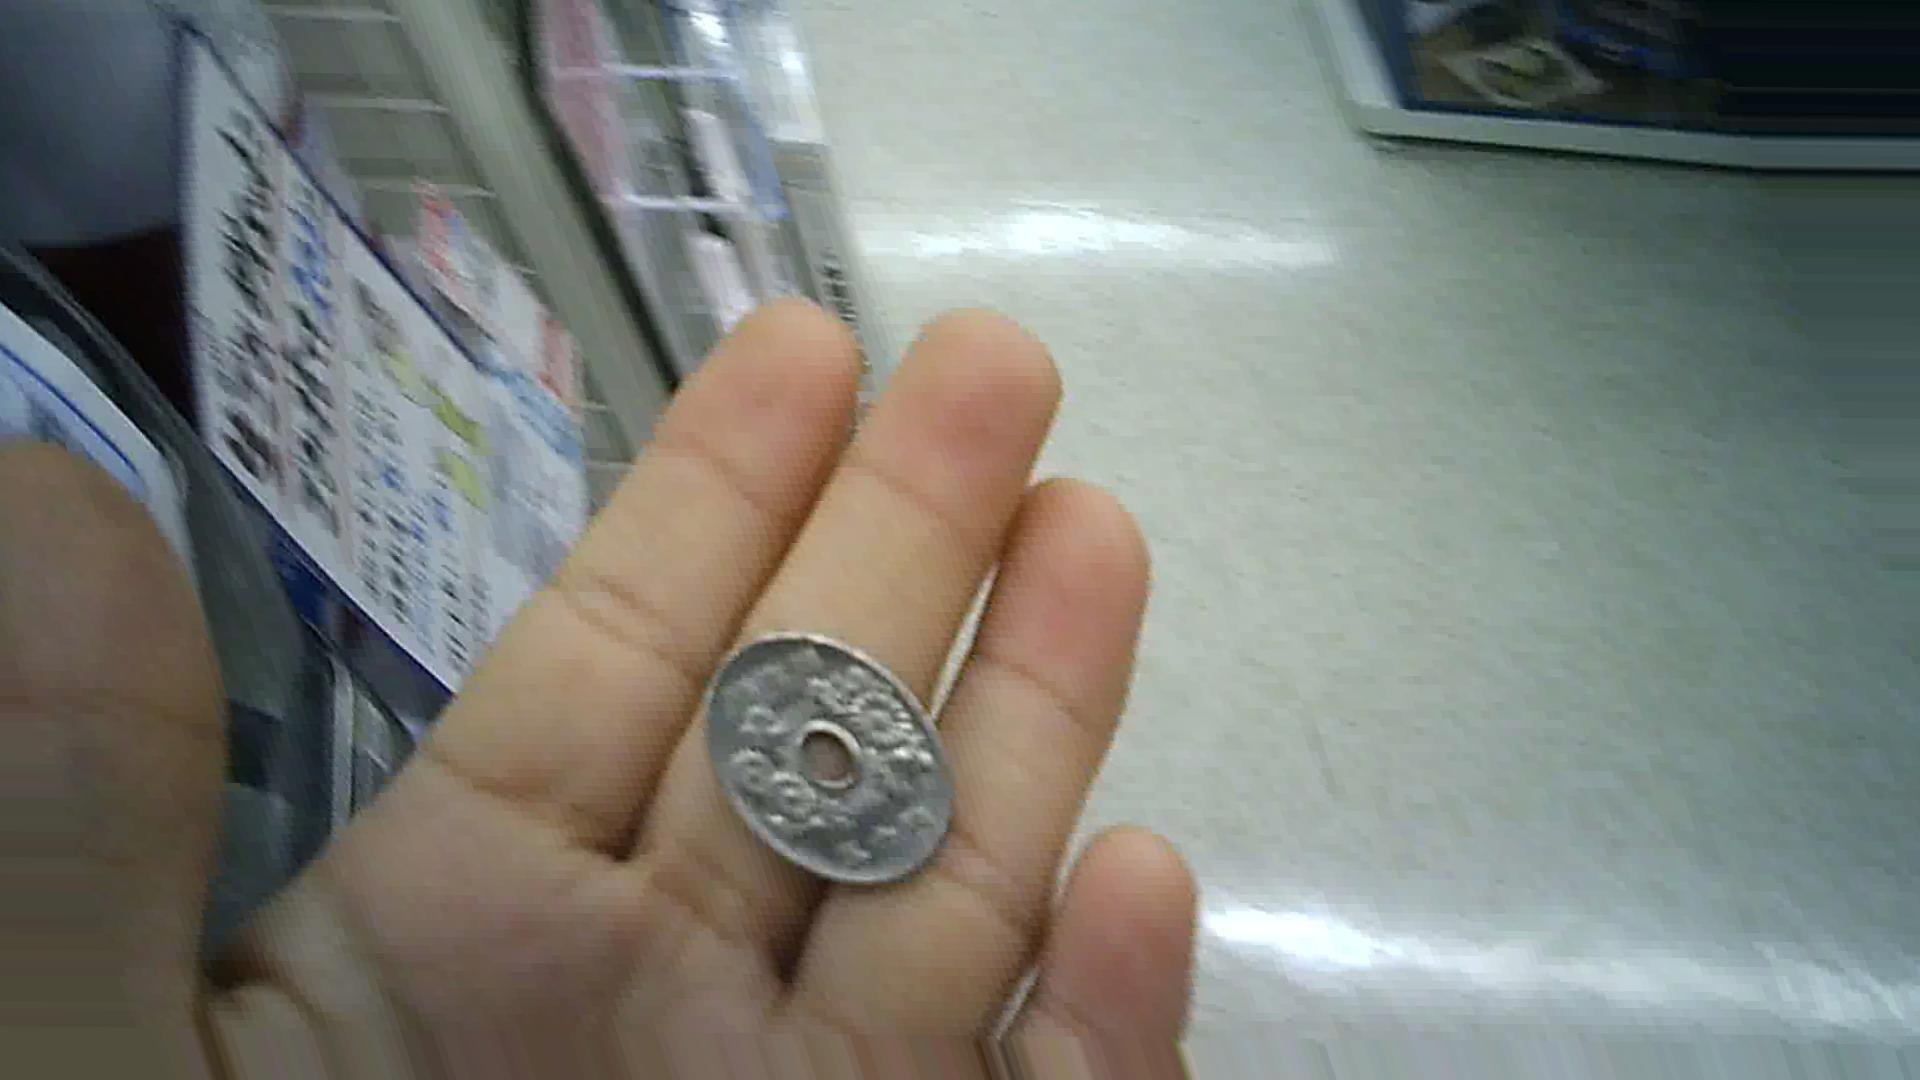50 Yen: (676, 630, 994, 920)
